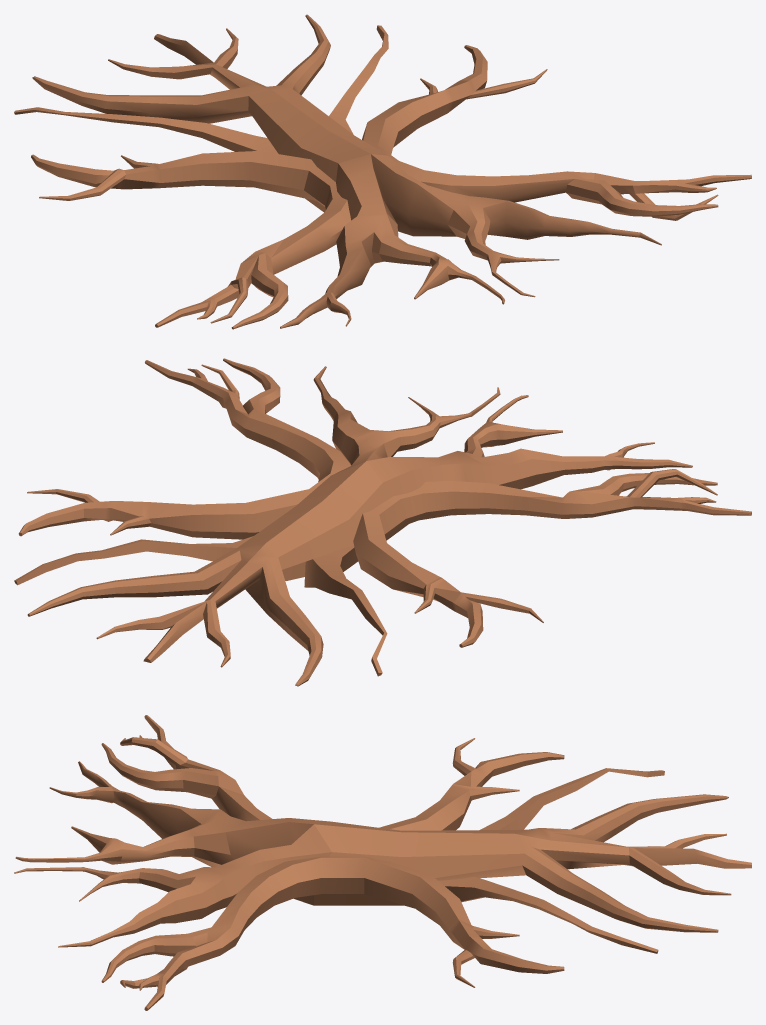
Rendered from puzzle1_Treel.fbx.
The picture shows the model from 3 angles, top to bottom: view 1: azimuth 30°, elevation 25°; view 2: azimuth 150°, elevation 25°; view 3: azimuth 270°, elevation 25°; orthographic projection. The views are drawn at different scales.
Parts seen in each view (by area): view 1: centerBranch, rightBranch, leftBranch; view 2: centerBranch, rightBranch, leftBranch; view 3: centerBranch, leftBranch, rightBranch.
Part boxes in pixels (bbox=[...]): centerBranch: bbox=[14, 14, 661, 328]; rightBranch: bbox=[31, 151, 350, 329]; leftBranch: bbox=[362, 45, 751, 220]; centerBranch: bbox=[14, 366, 692, 686]; rightBranch: bbox=[353, 469, 751, 647]; leftBranch: bbox=[18, 358, 351, 539]; centerBranch: bbox=[14, 761, 751, 953]; leftBranch: bbox=[101, 856, 564, 1010]; rightBranch: bbox=[101, 715, 564, 830].
Size of the model in its own units: 15.99 by 2.01 by 16.79.
